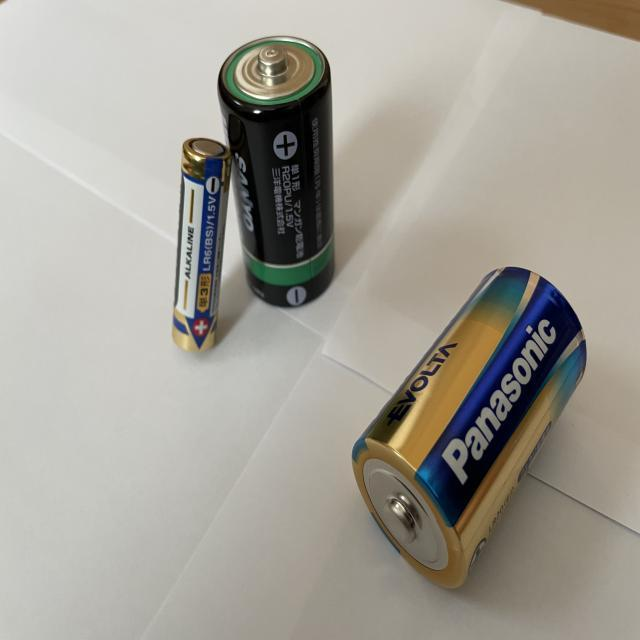AAA: (170, 138, 232, 357)
